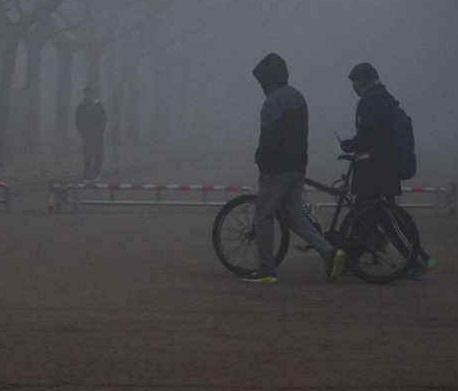person: (240, 50, 339, 286), (342, 57, 436, 284), (70, 84, 116, 188)
